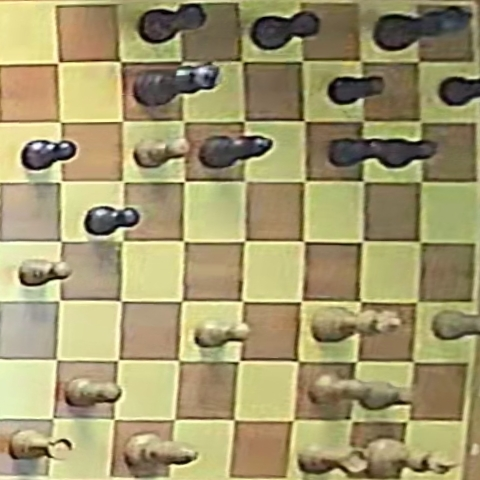black-bishop: (200, 135, 270, 168)
black-king: (376, 6, 472, 51)
black-pawn: (377, 136, 438, 167), (330, 137, 387, 168), (328, 75, 386, 105), (22, 139, 76, 170), (86, 206, 140, 236), (440, 75, 480, 106)
black-queen: (135, 64, 219, 106)
black-rook: (140, 3, 207, 44), (252, 11, 319, 50)
white-bishop: (124, 432, 197, 476)
white-king: (370, 439, 453, 477)
white-pawn: (133, 138, 189, 168), (310, 374, 364, 405), (66, 377, 121, 406), (356, 381, 411, 409), (195, 320, 250, 347), (19, 258, 72, 286), (432, 310, 478, 340)
white-queen: (313, 307, 401, 341)
white-rook: (298, 443, 366, 475), (8, 429, 74, 461)
